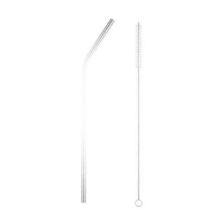drinking_straw: (73, 13, 119, 207)
